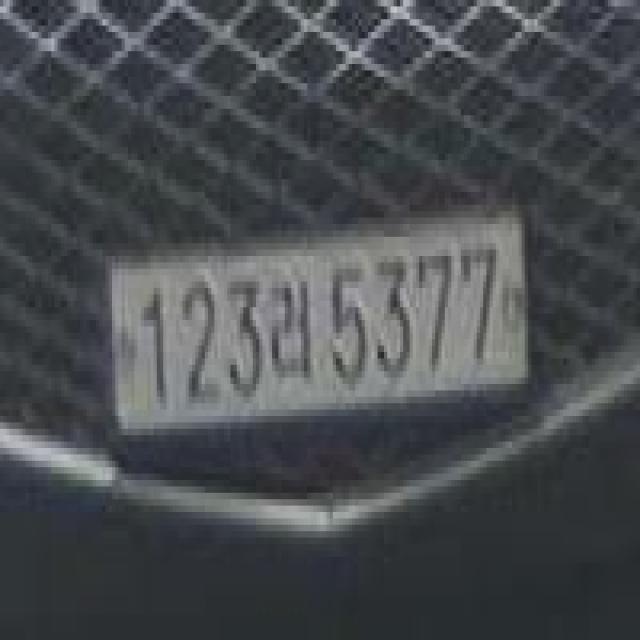illegal_plate: (105, 208, 532, 444)
